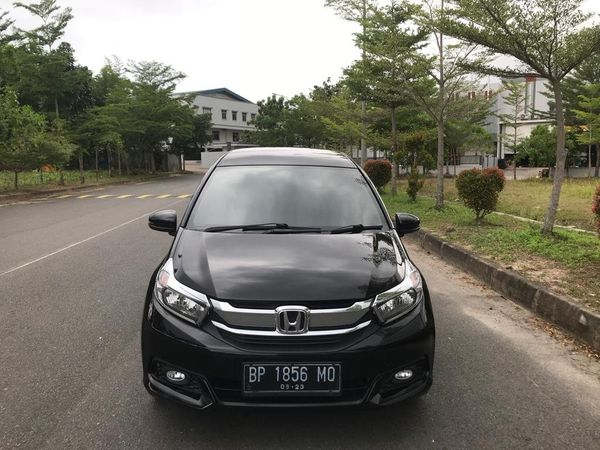plate: (243, 360, 345, 394)
